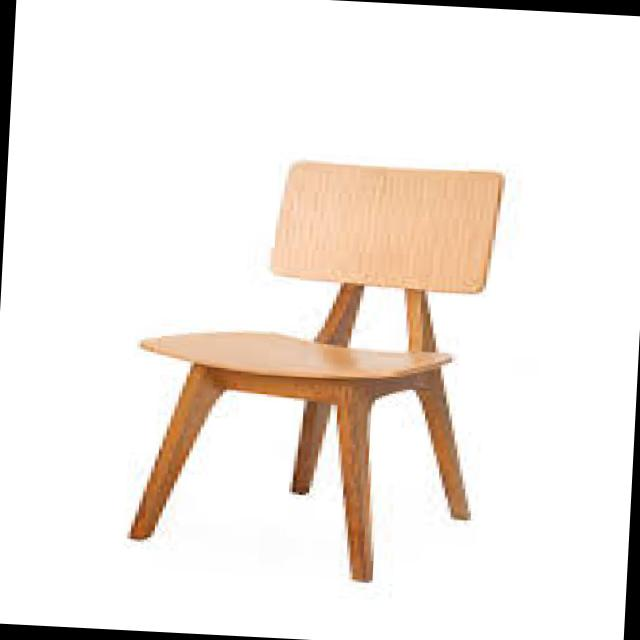obstacle: (87, 91, 564, 601)
